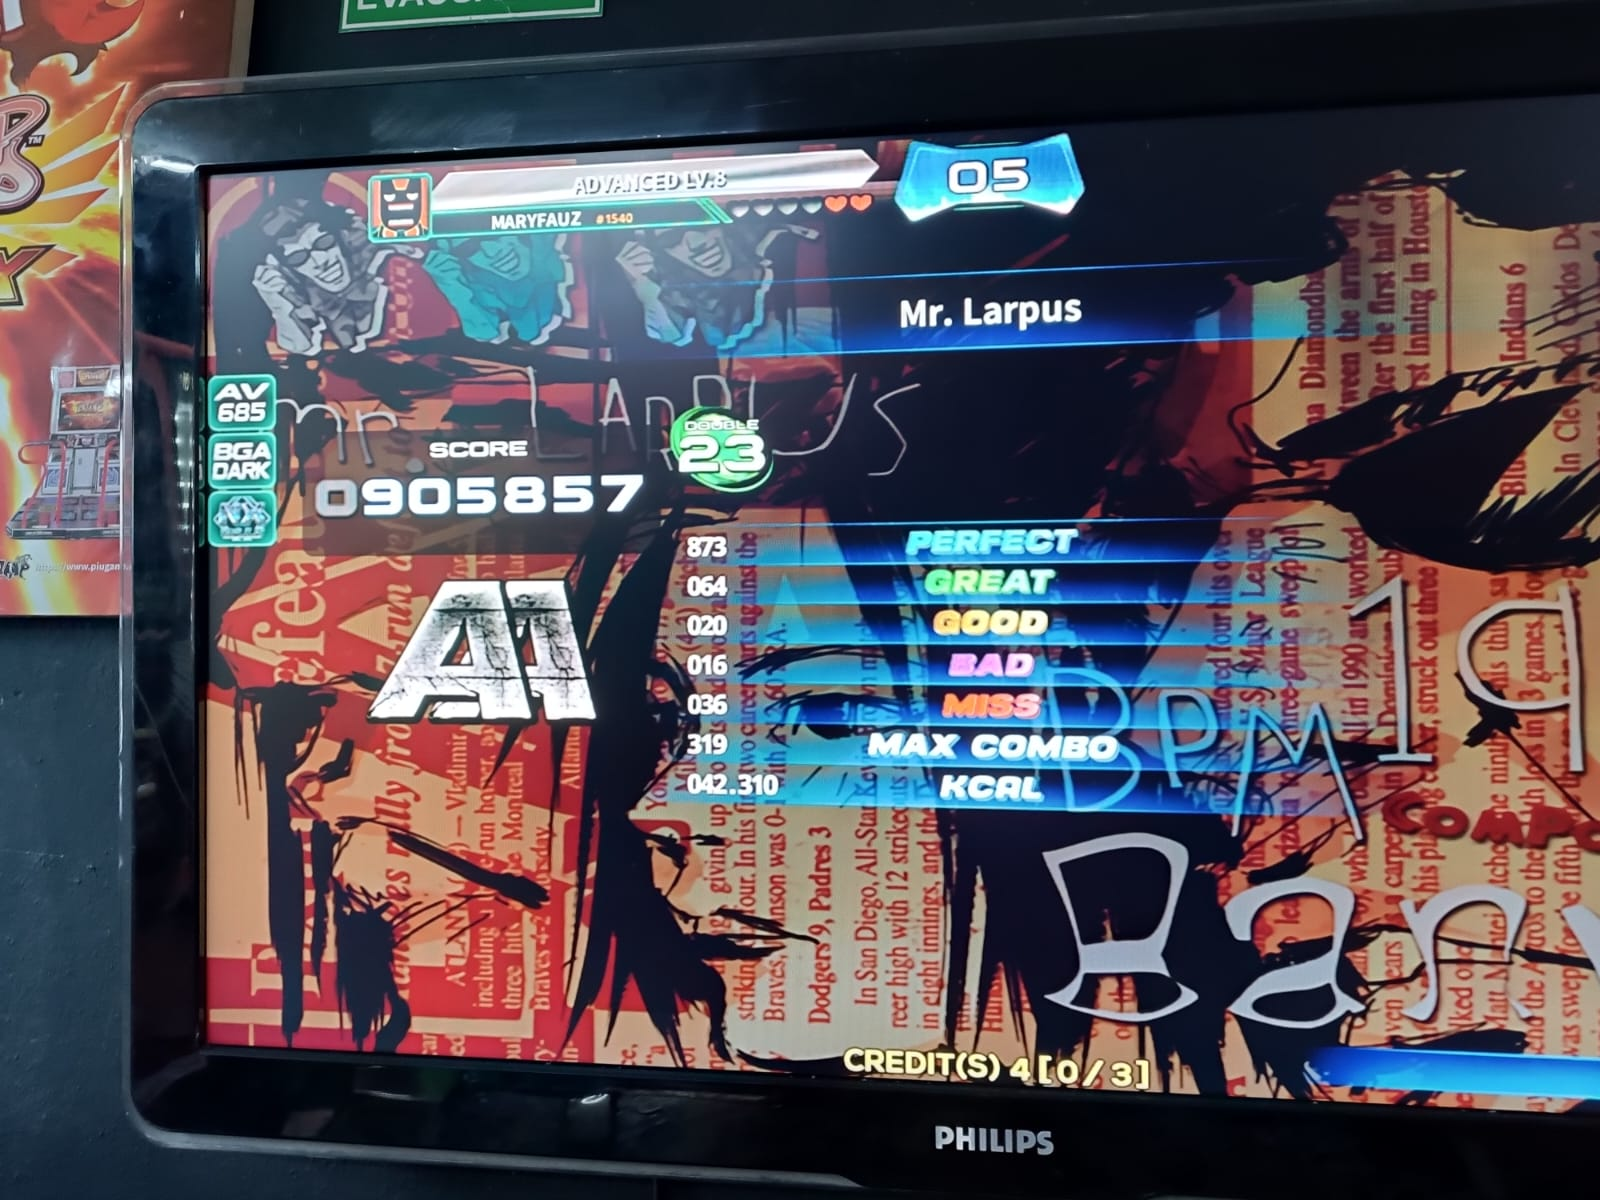difficulty: (640, 383, 785, 504)
fullscore: (130, 66, 1270, 1124)
rank: (344, 560, 620, 749)
score: (317, 427, 648, 528)
song_name: (874, 270, 1178, 345)
